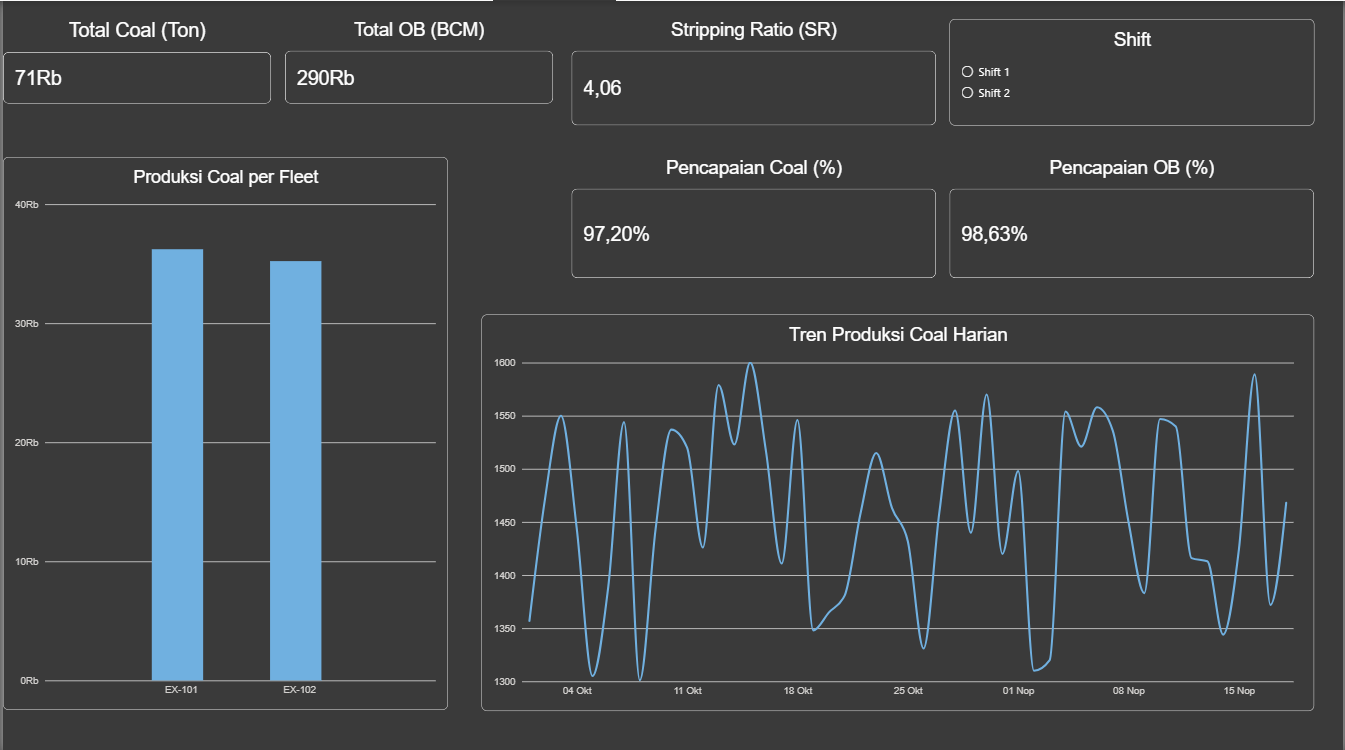

Layout of this report page (visuals, bound fields, positions):
{"tool":"powerbi","page":{"name":"Halaman 1","canvas":[1920,1080],"ordinal":0},"visuals":[{"type":"cardVisual","title":"Total Coal (Ton)","fields":{"Data":["Sum(Table3.Coal_Aktual_Ton)"]},"box":[0,26.2,384.1,121.7],"z":0},{"type":"cardVisual","title":"Total OB (BCM)","fields":{"Data":["Sum(Table3.OB_Aktual_BCM)"]},"box":[403.2,26.2,384.1,121.7],"z":1000},{"type":"clusteredColumnChart","title":"Produksi Coal per Fleet","fields":{"Category":["Table3.Fleet_Excavator"],"Y":["Sum(Table3.Coal_Aktual_Ton)"]},"box":[0,224.3,637,792.1],"z":2000},{"type":"lineChart","title":"Tren Produksi Coal Harian","fields":{"Category":["Table3.Tanggal"],"Y":["Sum(Table3.Coal_Aktual_Ton)"]},"box":[684.8,448.6,1193,567.8],"z":3000},{"type":"listSlicer","fields":{"Values":["Table3.Shift"]},"box":[1355.2,26.2,522.5,152.7],"z":4000},{"type":"cardVisual","title":"Stripping Ratio (SR)","fields":{"Data":["Table3.Stripping Ratio"]},"box":[813.6,26.2,522.5,152.7],"z":4001},{"type":"cardVisual","title":"Pencapaian Coal (%)","fields":{"Data":["Table3.Coal Achievement (%)"]},"box":[813.6,224.3,522.5,174.2],"z":4002},{"type":"cardVisual","title":"Pencapaian OB (%)","fields":{"Data":["Table3.OB Achievement (%)"]},"box":[1355.2,224.3,522.5,174.2],"z":4003}]}

Visuals, with their boxes in screenshot pixels (x1, y1, x2, y2), scaled from the page's 1920x1080 canvas onto the 1345x750 screenshot:
"Total Coal (Ton)" cardVisual: crop(0, 18, 269, 103)
"Total OB (BCM)" cardVisual: crop(282, 18, 552, 103)
"Produksi Coal per Fleet" clusteredColumnChart: crop(0, 156, 446, 706)
"Tren Produksi Coal Harian" lineChart: crop(480, 312, 1315, 706)
listSlicer - Table3.Shift: crop(949, 18, 1315, 124)
"Stripping Ratio (SR)" cardVisual: crop(570, 18, 936, 124)
"Pencapaian Coal (%)" cardVisual: crop(570, 156, 936, 277)
"Pencapaian OB (%)" cardVisual: crop(949, 156, 1315, 277)
